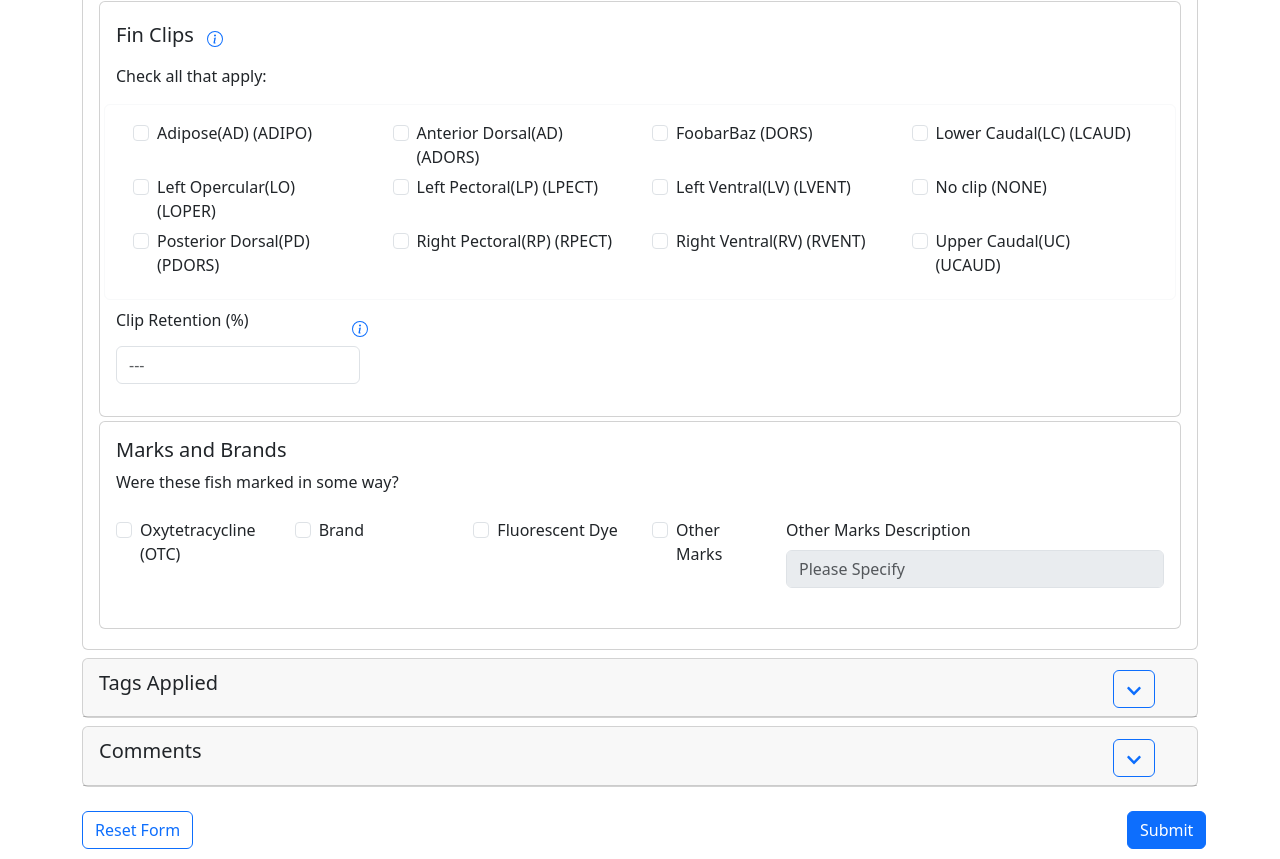
Fin Clip › that at least one fin clip is selected
(page scrolled)
Click the button "Submit": (1167, 830) [1127, 811, 1206, 849]
(page scrolled)
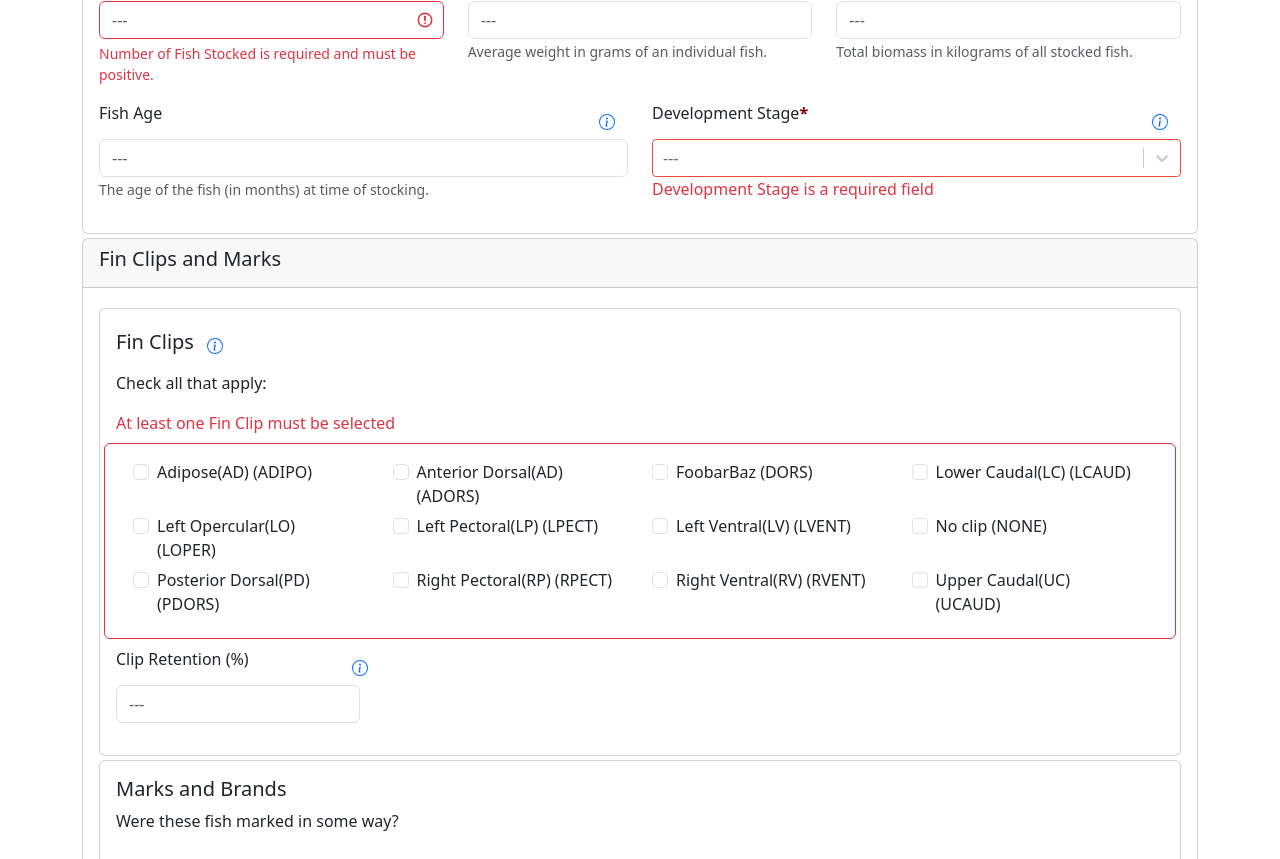
Now the text "At least one Fin Clip must be selected" is shown, box [116, 412, 395, 434]
